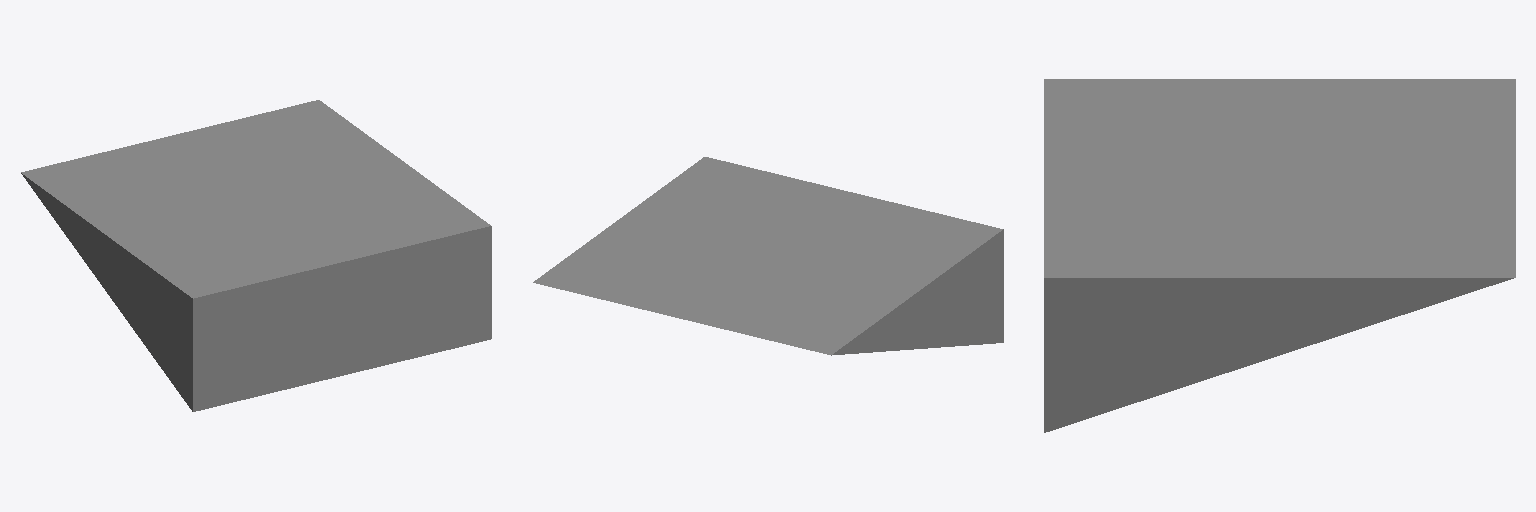
The robot description file, URDF, robot "Stage":
<?xml version="1.0" ?>
<robot name="Stage">
    <link name="link0">
        <visual>
          <geometry>
            <mesh filename="package://mesh3/ramp.stl"/>
          </geometry>
          <material name="color0"/>
        </visual>
        <collision>
          <geometry>
            <mesh filename="package://mesh3/ramp.stl"/>
          </geometry>
          <material name="color0"/>
        </collision>
        <inertial>
          <origin xyz="0 0 0" rpy="0 0 0"/>
          <mass value="10"/>
          <inertia ixx="1" ixy="0.0" ixz="0.0" iyy="1" iyz="0.0" izz="1"/>
        </inertial>
    </link>

    <material name="color0">
        <color rgba="0.6  0.6 0.6 0.9"/>
      </material>
</robot>

--- Facts derived from the render (not from the file) ---
Views: 3 orthographic renders of the robot side by side, from view 1: azimuth 30°, elevation 25°; view 2: azimuth 150°, elevation 25°; view 3: azimuth 270°, elevation 25°.
Robot: Stage — 1 links, 0 joints (none); root link link0; default pose: every joint at zero.
Visible links, largest first — view 1: link0; view 2: link0; view 3: link0.
Boxes of the visible links, x1=… form: link0: x1=21, y1=100, x2=491, y2=411; link0: x1=533, y1=157, x2=1003, y2=355; link0: x1=1044, y1=79, x2=1515, y2=432.
Size in the robot's own frame: 0.11 by 0.11 by 0.04 metres.
1 mesh visuals loaded from 1 distinct referenced files (1 binary STL).